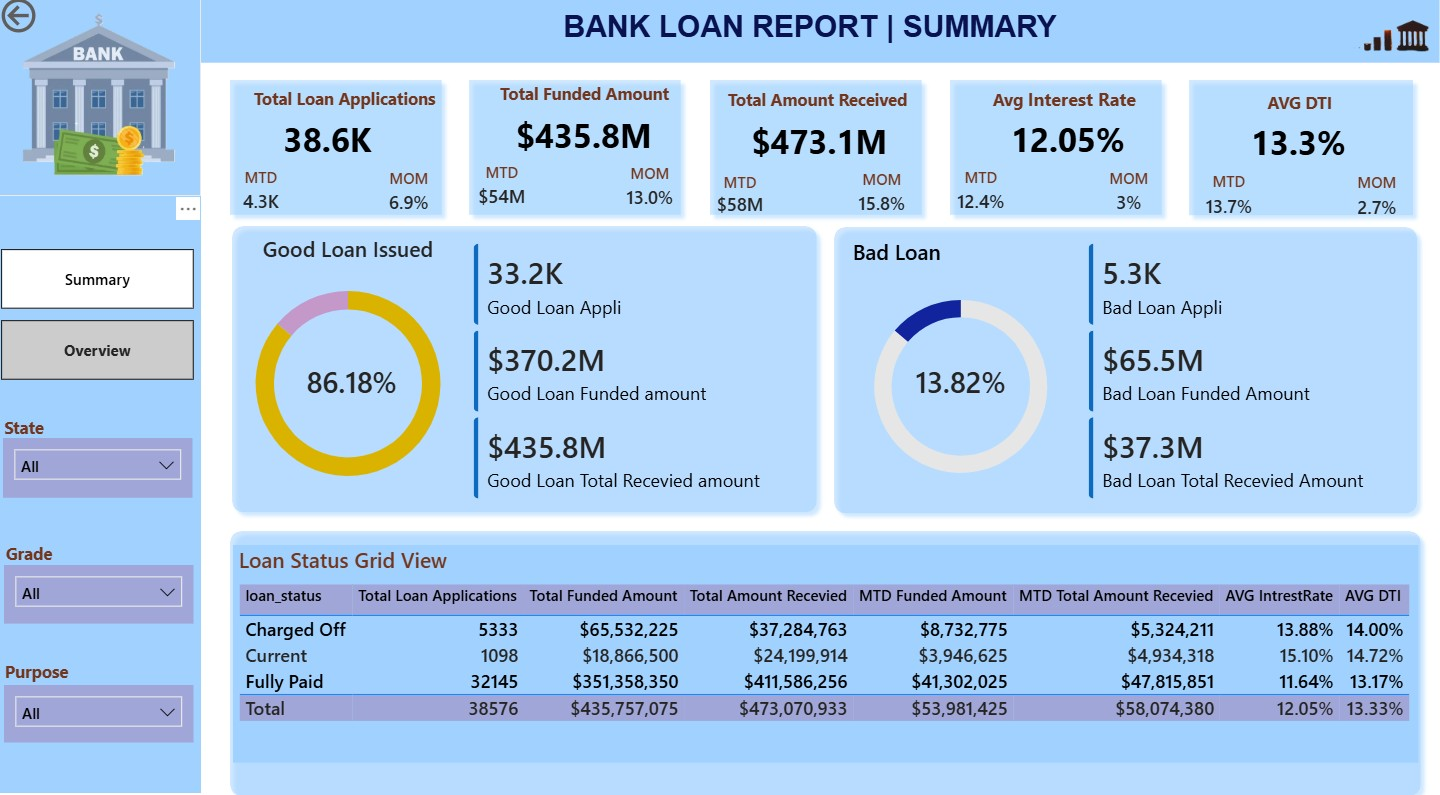

What the dashboard file says about the page in this screenshot:
{"tool":"powerbi","page":{"name":"Summary","canvas":[1280,720],"ordinal":0},"visuals":[{"type":"shape","box":[0,51.4,181.8,657.9],"z":0},{"type":"shape","box":[199.1,69.1,203.6,135.5],"z":0,"group":"g1"},{"type":"shape","box":[411.3,69.1,203.6,135.5],"z":0,"group":"g2"},{"type":"shape","box":[625.5,69.1,203.6,135.5],"z":0,"group":"g3"},{"type":"shape","box":[837.8,69.1,203.6,135.5],"z":0,"group":"g4"},{"type":"shape","box":[1050,69.1,214.5,135.9],"z":0,"group":"g5"},{"type":"shape","box":[735.5,199.1,533,270],"z":0,"group":"g6"},{"type":"shape","box":[0,0,1280,61.8],"z":1000},{"type":"textbox","box":[432.8,73.6,178.2,31.8],"z":1000,"group":"g2"},{"type":"textbox","box":[219.1,78.2,178.2,31.8],"z":1000,"group":"g1"},{"type":"textbox","box":[857.8,78.2,178.2,31.8],"z":1000,"group":"g4"},{"type":"textbox","box":[639.1,78.7,178.2,31.8],"z":1000,"group":"g3"},{"type":"textbox","box":[1057.3,81.3,198.2,30.9],"z":1000,"group":"g5"},{"type":"shape","box":[199.1,469.1,1071.8,250.9],"z":1000,"group":"g7"},{"type":"card","fields":{"Values":["Bank_loan_data.Total Funded Amount"]},"box":[453.9,93.1,134.5,67.3],"z":2000,"group":"g2"},{"type":"card","fields":{"Values":["Bank_loan_data.Total Loan Applications"]},"box":[244.6,94.6,98.2,70],"z":2000,"group":"g1"},{"type":"card","fields":{"Values":["Bank_loan_data.AVG IntrestRate"]},"box":[886.3,97.7,127.3,65.5],"z":2000,"group":"g4"},{"type":"card","fields":{"Values":["Bank_loan_data.AVG DTI"]},"box":[1104.5,97.7,100,70],"z":2000,"group":"g5"},{"type":"card","fields":{"Values":["Bank_loan_data.Total Amount Recevied"]},"box":[664.4,98.3,131.8,67.3],"z":2000,"group":"g3"},{"type":"textbox","box":[0,369.8,49.7,31.9],"z":2000},{"type":"textbox","box":[480,10,484.5,41.8],"z":3000},{"type":"card","title":"MTD","fields":{"Values":["Bank_loan_data.MTD Funded Amount"]},"box":[416.7,149.7,63.6,48.2],"z":3000,"group":"g2"},{"type":"card","title":"MTD","fields":{"Values":["Bank_loan_data.MTD Loan Appli"]},"box":[203,154.3,63.6,48.2],"z":3000,"group":"g1"},{"type":"card","title":"MTD","fields":{"Values":["Bank_loan_data.MTD AVG interest rate"]},"box":[841.7,154.3,63.6,48.2],"z":3000,"group":"g4"},{"type":"card","title":"MTD","fields":{"Values":["Bank_loan_data.MTD Avg Dti"]},"box":[1061.3,157.9,63.6,50],"z":3000,"group":"g5"},{"type":"card","title":"MTD","fields":{"Values":["Bank_loan_data.MTD Total Amount Recevied"]},"box":[623.5,158.3,72.7,44.5],"z":3000,"group":"g3"},{"type":"group","id":"g1","title":"Group 1","box":[199.1,69.1,203.6,135.5],"z":4000},{"type":"card","title":"MOM","fields":{"Values":["Bank_loan_data.MOM Funded AMount"]},"box":[547.7,150.9,63.6,48.2],"z":4000,"group":"g2"},{"type":"card","title":"MOM","fields":{"Values":["Bank_loan_data.MOM Loan Appli"]},"box":[334,155.5,63.6,48.2],"z":4000,"group":"g1"},{"type":"card","title":"MOM","fields":{"Values":["Bank_loan_data.MOM intrest rate"]},"box":[972.7,155.5,63.6,48.2],"z":4000,"group":"g4"},{"type":"card","title":"MOM","fields":{"Values":["Bank_loan_data.MOM total amount recevied"]},"box":[754,156,63.6,48.2],"z":4000,"group":"g3"},{"type":"card","title":"MOM","fields":{"Values":["Bank_loan_data.MOM AVG DTI"]},"box":[1192.3,159.1,63.6,50],"z":4000,"group":"g5"},{"type":"group","id":"g2","title":"Group 1","box":[411.3,69.1,203.6,135.5],"z":5000},{"type":"group","id":"g3","title":"Group 1","box":[623.5,69.1,205.6,135.5],"z":6000},{"type":"group","id":"g4","title":"Group 1","box":[837.8,69.1,203.6,135.5],"z":7000},{"type":"group","id":"g5","title":"Group 1","box":[1050,69.1,214.5,140],"z":8000},{"type":"donutChart","title":"Bad Loan","fields":{"Category":["Bank_loan_data.Good Loan VS Bad Loan"],"Y":["CountNonNull(Bank_loan_data.loan_status)"]},"box":[754.8,216.3,201.8,240],"z":8500,"group":"g6"},{"type":"group","id":"g6","title":"Group 3","box":[735.5,199.1,533,270],"z":9000},{"type":"shape","box":[200.9,198.2,534.5,270],"z":10000},{"type":"donutChart","title":"Good Loan Issued","fields":{"Category":["Bank_loan_data.Good Loan VS Bad Loan"],"Y":["Bank_loan_data.Total Loan Applications"]},"box":[202.7,213.6,218.2,240],"z":11000},{"type":"cardVisual","fields":{"Data":["Bank_loan_data.Good Loan Appli","Bank_loan_data.Good Loan appli","Bank_loan_data.Good Loan Total Recevied amount"]},"box":[410.9,209.1,309.1,252.7],"z":12000},{"type":"tableEx","title":"Loan Status Grid View","fields":{"Values":["Bank_loan_data.loan_status","Bank_loan_data.Total Loan Applications","Bank_loan_data.Total Funded Amount","Bank_loan_data.Total Amount Recevied","Bank_loan_data.MTD Funded Amount","Bank_loan_data.MTD Total Amount Recevied","Bank_loan_data.AVG IntrestRate","Bank_loan_data.AVG DTI"]},"box":[209.9,489.4,1050.9,193.1],"z":12004,"group":"g7"},{"type":"cardVisual","fields":{"Data":["Bank_loan_data.Good Loan %"]},"box":[244.5,307.3,141.8,71.8],"z":13000},{"type":"cardVisual","fields":{"Data":["Bank_loan_data.Bad Loan %"]},"box":[784.5,307.3,141.8,71.8],"z":14000},{"type":"cardVisual","fields":{"Data":["Bank_loan_data.Bad Loan Appli","Bank_loan_data.Bad Loan Funded Amount","Bank_loan_data.Bad Loan Total Recevied Amount"]},"box":[955.5,209.1,309.1,252.7],"z":15000},{"type":"actionButton","box":[0,0,100,40],"z":16000},{"type":"group","id":"g7","title":"Group 2","box":[199.1,469.1,1071.8,250.9],"z":17000},{"type":"slicer","fields":{"Values":["Bank_loan_data.purpose"]},"box":[7.1,613.6,167.6,50.5],"z":18000},{"type":"slicer","fields":{"Values":["Bank_loan_data.grade"]},"box":[7.1,507.2,167.6,52.3],"z":19000},{"type":"slicer","fields":{"Values":["Bank_loan_data.address_state"]},"box":[6.2,394.6,167.6,53.2],"z":20000},{"type":"textbox","box":[0,586.1,71.8,31.9],"z":21000},{"type":"textbox","box":[0,481.5,58.5,31.9],"z":22000},{"type":"image","box":[0,0,181.8,180],"z":23000},{"type":"image","box":[1192.6,0,87.8,62.1],"z":24000},{"type":"pageNavigator","box":[4.4,227,171.1,116.2],"z":25000}]}

Visuals, with their boxes in screenshot pixels (x1, y1, x2, y2), scaled from the page's 1280x720 canvas onto the 1440x795 screenshot:
shape: bbox=(0, 57, 205, 783)
shape: bbox=(224, 76, 453, 226)
shape: bbox=(463, 76, 692, 226)
shape: bbox=(704, 76, 933, 226)
shape: bbox=(943, 76, 1172, 226)
shape: bbox=(1181, 76, 1423, 226)
shape: bbox=(827, 220, 1427, 518)
shape: bbox=(0, 0, 1439, 68)
textbox: bbox=(487, 81, 687, 116)
textbox: bbox=(246, 86, 447, 121)
textbox: bbox=(965, 86, 1166, 121)
textbox: bbox=(719, 87, 919, 122)
textbox: bbox=(1189, 90, 1412, 124)
shape: bbox=(224, 518, 1430, 794)
card - Bank_loan_data.Total Funded Amount: bbox=(511, 103, 662, 177)
card - Bank_loan_data.Total Loan Applications: bbox=(275, 104, 386, 182)
card - Bank_loan_data.AVG IntrestRate: bbox=(997, 108, 1140, 180)
card - Bank_loan_data.AVG DTI: bbox=(1243, 108, 1355, 185)
card - Bank_loan_data.Total Amount Recevied: bbox=(747, 109, 896, 183)
textbox: bbox=(0, 408, 56, 444)
textbox: bbox=(540, 11, 1085, 57)
"MTD" card: bbox=(469, 165, 540, 219)
"MTD" card: bbox=(228, 170, 300, 224)
"MTD" card: bbox=(947, 170, 1018, 224)
"MTD" card: bbox=(1194, 174, 1266, 230)
"MTD" card: bbox=(701, 175, 783, 224)
"Group 1" group: bbox=(224, 76, 453, 226)
"MOM" card: bbox=(616, 167, 688, 220)
"MOM" card: bbox=(376, 172, 447, 225)
"MOM" card: bbox=(1094, 172, 1166, 225)
"MOM" card: bbox=(848, 172, 920, 225)
"MOM" card: bbox=(1341, 176, 1413, 231)
"Group 1" group: bbox=(463, 76, 692, 226)
"Group 1" group: bbox=(701, 76, 933, 226)
"Group 1" group: bbox=(943, 76, 1172, 226)
"Group 1" group: bbox=(1181, 76, 1423, 231)
"Bad Loan" donutChart: bbox=(849, 239, 1076, 504)
"Group 3" group: bbox=(827, 220, 1427, 518)
shape: bbox=(226, 219, 827, 517)
"Good Loan Issued" donutChart: bbox=(228, 236, 474, 501)
cardVisual - Bank_loan_data.Good Loan Appli x Bank_loan_data.Good Loan appli: bbox=(462, 231, 810, 510)
"Loan Status Grid View" tableEx: bbox=(236, 540, 1418, 754)
cardVisual - Bank_loan_data.Good Loan %: bbox=(275, 339, 435, 419)
cardVisual - Bank_loan_data.Bad Loan %: bbox=(883, 339, 1042, 419)
cardVisual - Bank_loan_data.Bad Loan Appli x Bank_loan_data.Bad Loan Funded Amount: bbox=(1075, 231, 1423, 510)
actionButton: bbox=(0, 0, 112, 44)
"Group 2" group: bbox=(224, 518, 1430, 794)
slicer - Bank_loan_data.purpose: bbox=(8, 678, 197, 733)
slicer - Bank_loan_data.grade: bbox=(8, 560, 197, 618)
slicer - Bank_loan_data.address_state: bbox=(7, 436, 196, 494)
textbox: bbox=(0, 647, 81, 682)
textbox: bbox=(0, 532, 66, 567)
image: bbox=(0, 0, 205, 199)
image: bbox=(1342, 0, 1439, 69)
pageNavigator: bbox=(5, 251, 197, 379)
